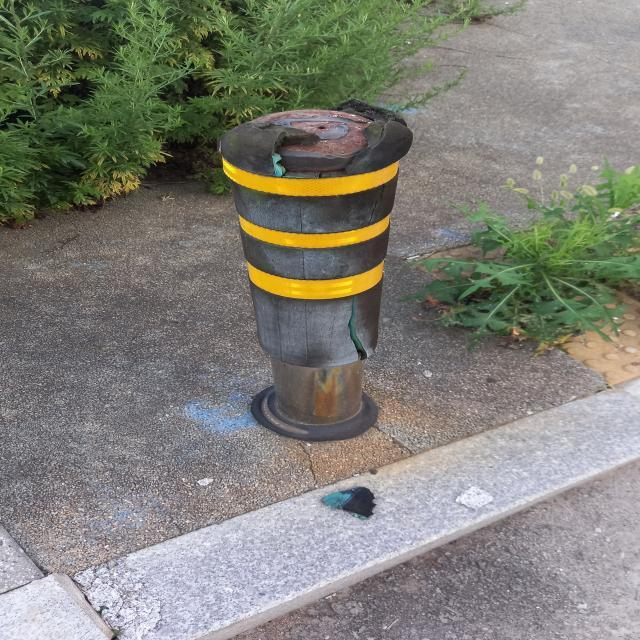pole: (218, 98, 412, 442)
